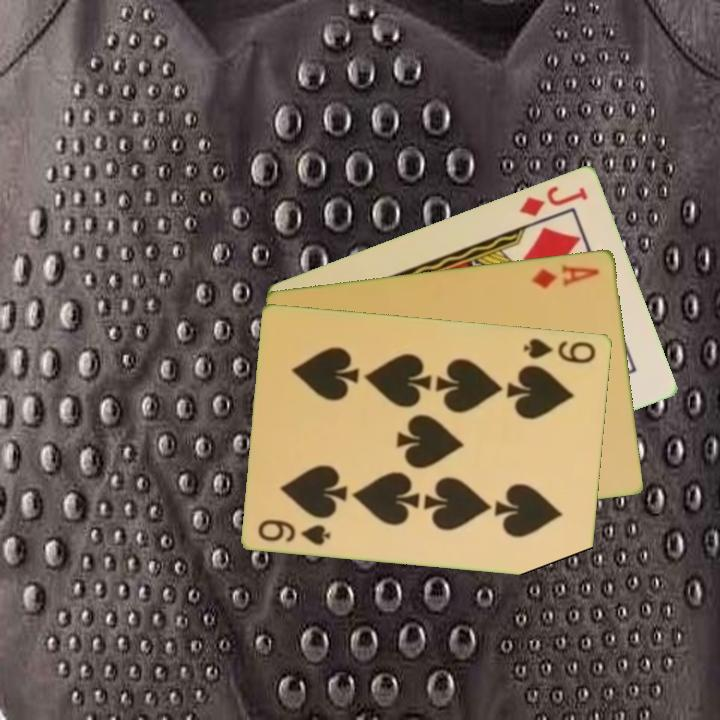9s: (255, 515, 334, 548), (520, 334, 599, 366)
Ad: (528, 260, 603, 291)
Jd: (515, 181, 591, 219)
